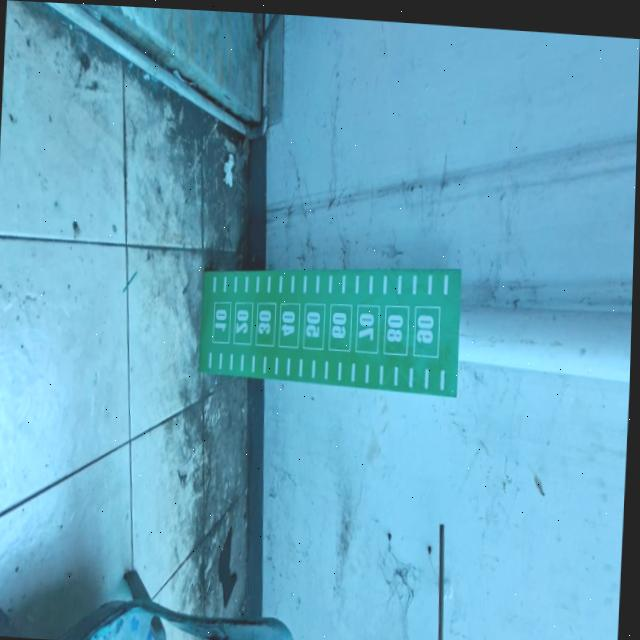water-meter: (181, 218, 472, 434)
